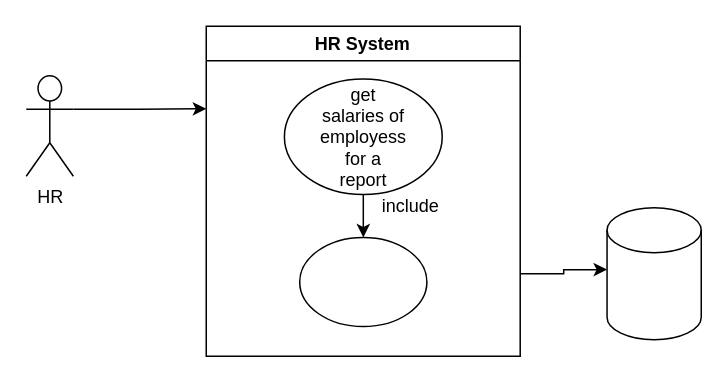
Image size: 728x383. Some labels were removed from this diagram. The centre of each missing label's shape, as x and y in pixels:
"DataBase" belongs at (x=653, y=273).
"print salaries" belongs at (x=362, y=281).
